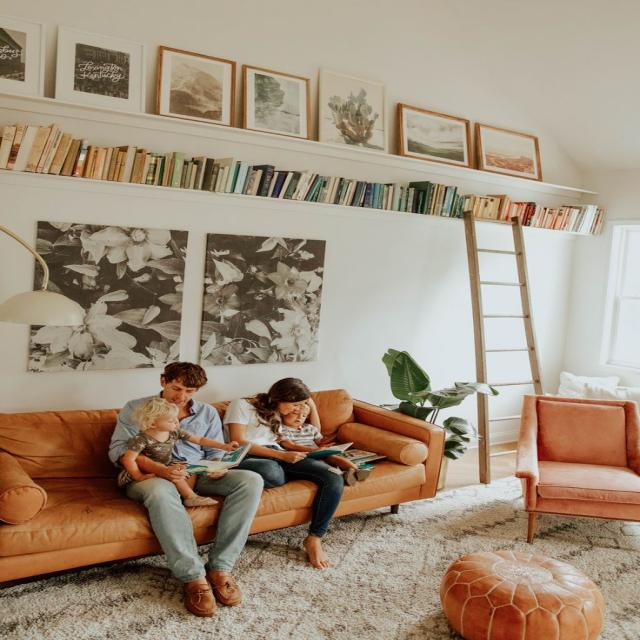obstacle: (0, 388, 446, 588), (515, 393, 639, 544)
